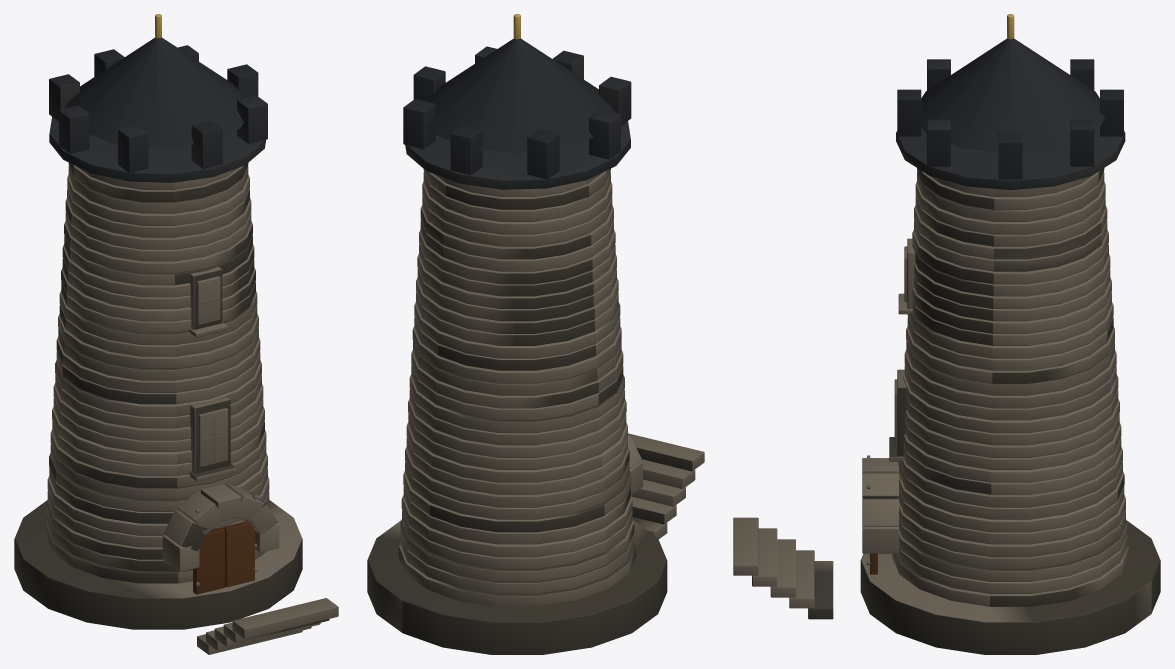
Rendered from building_royal_outpost_tower.fbx.
3 renders of one model, left to right at view 1: azimuth 30°, elevation 25°; view 2: azimuth 150°, elevation 25°; view 3: azimuth 270°, elevation 25°, orthographic. The views are drawn at different scales.
Visible parts, largest first — view 1: building_royal_outpost_tower; view 2: building_royal_outpost_tower; view 3: building_royal_outpost_tower.
Part boxes in pixels (left/top/right/bottom): building_royal_outpost_tower: left=14, top=14, right=338, bottom=654; building_royal_outpost_tower: left=367, top=14, right=704, bottom=654; building_royal_outpost_tower: left=733, top=14, right=1160, bottom=654.
Size of the model in its own units: 4.43 by 9.61 by 6.41.
